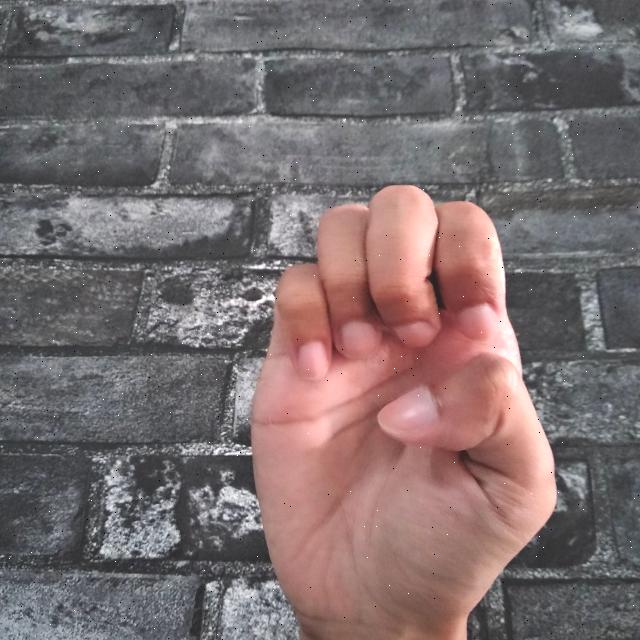E: (250, 185, 556, 640)
